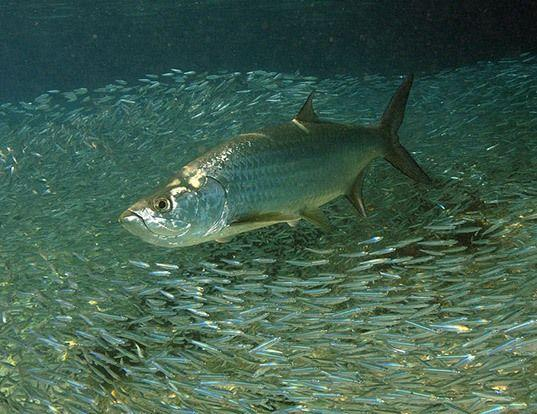Indo-Pacific Tarpon: (117, 71, 437, 251)
